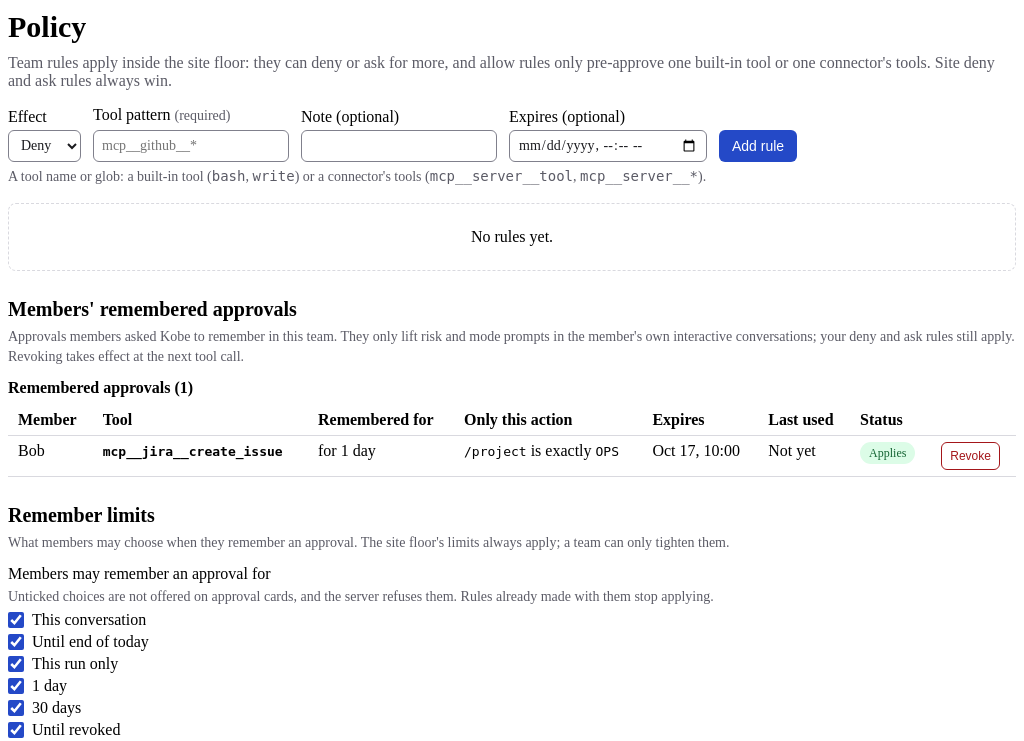
Test case: Members' remembered approvals and remember limits (KOBE-289) › team admins see members' rules and revoke them in their team
The image size is (1024, 741).
Click the button named "Revoke Bob's rule for mcp__jira__create_issue": (971, 456) 941,442 -> 1000,470
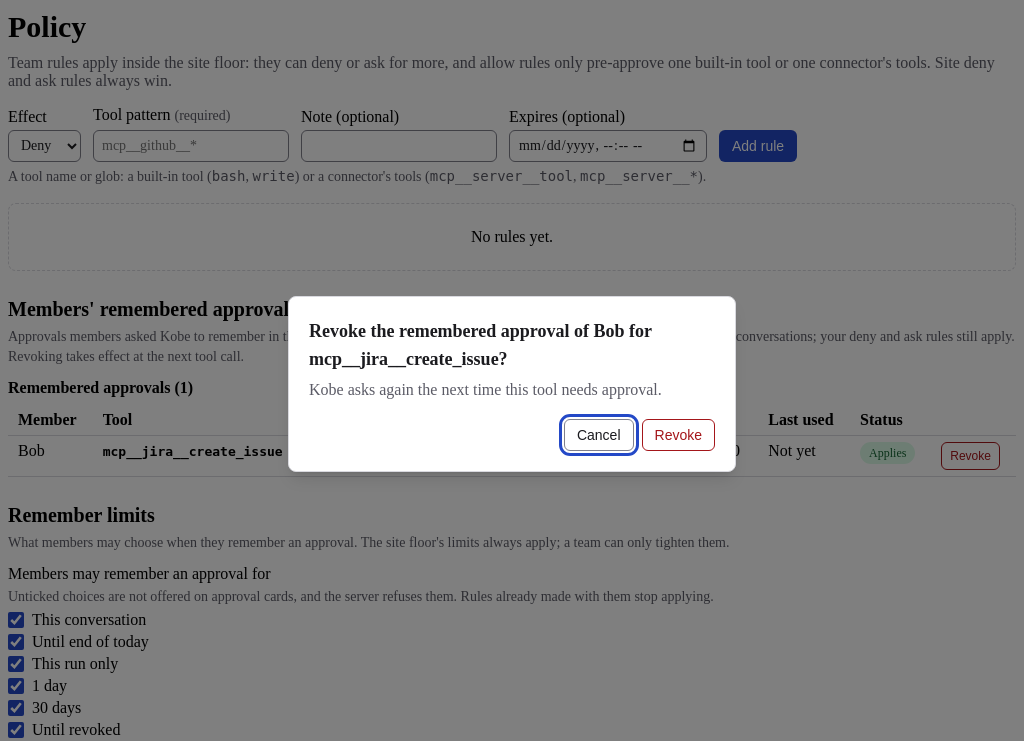
Click the button "Revoke": (678, 435) 642,419 -> 715,451
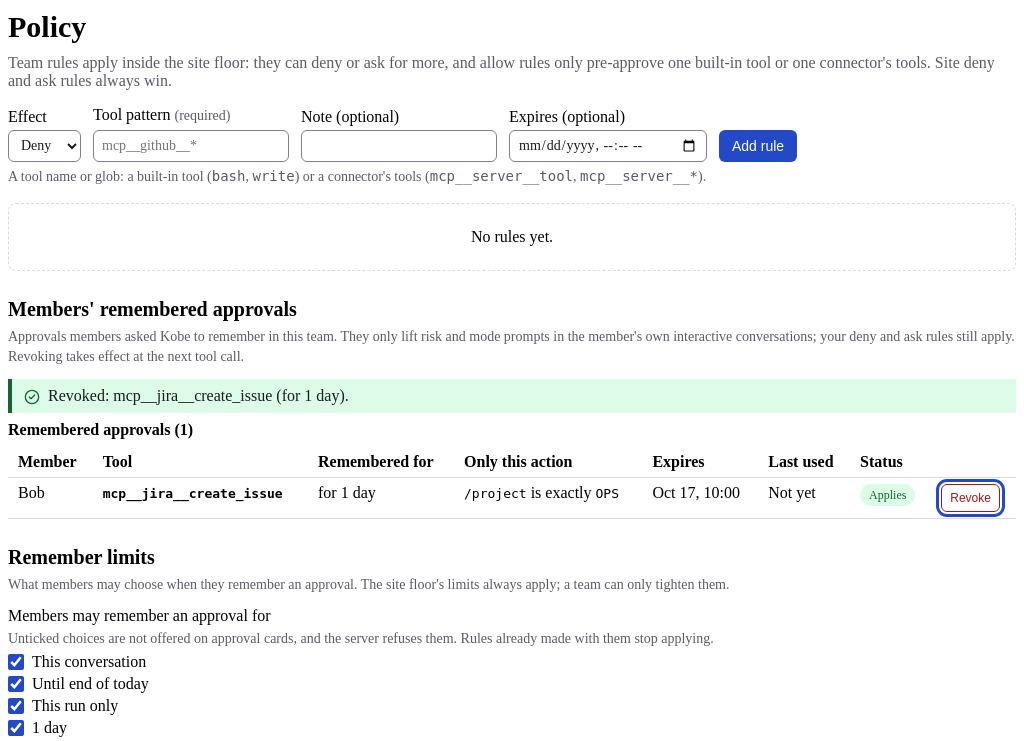
Check: the text "Revoked: mcp__jira__create_issue (for 1 day)." is shown, box 48,386 -> 349,404
